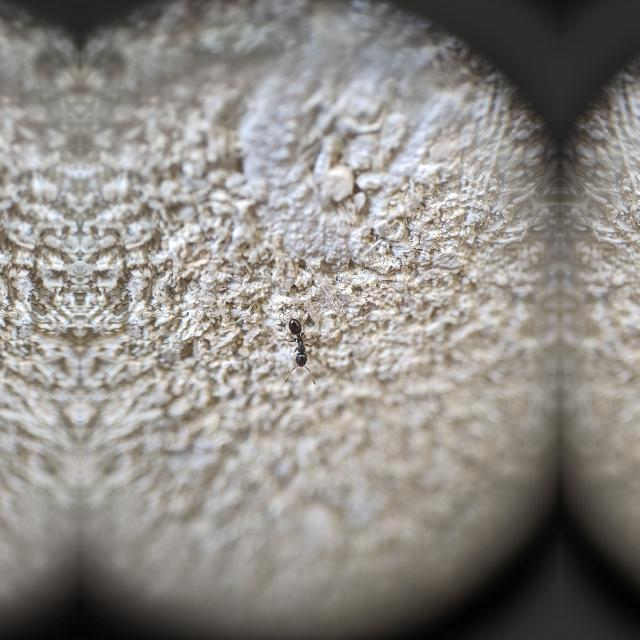Tetramorium: (280, 312, 320, 376)
